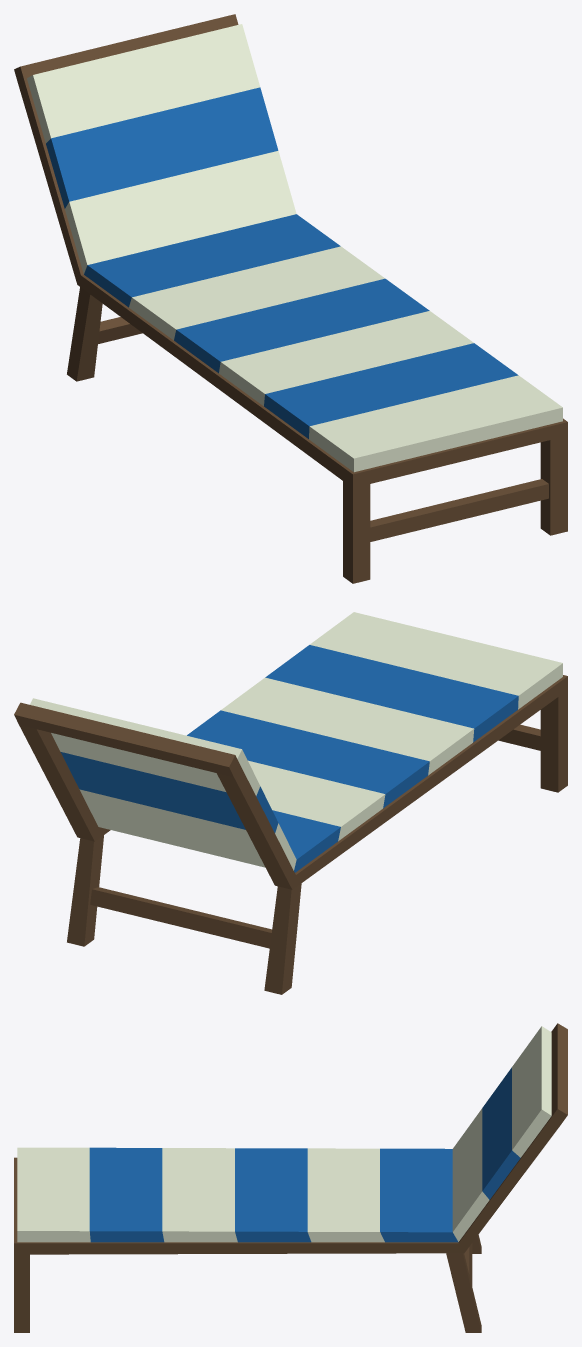
File: bench_A.fbx
3 renders of one model, top to bottom at view 1: azimuth 30°, elevation 25°; view 2: azimuth 150°, elevation 25°; view 3: azimuth 270°, elevation 25°, orthographic. The views are drawn at different scales.
Parts seen in each view (by area): view 1: Bench_A; view 2: Bench_A; view 3: Bench_A.
Part boxes in pixels (x1,y1,x2,y2): Bench_A: (14, 14, 567, 583); Bench_A: (14, 612, 567, 994); Bench_A: (14, 1023, 567, 1332).
Size of the model in its own units: 49.47 by 60.22 by 135.
Materials: 1 (1 with a texture image).
